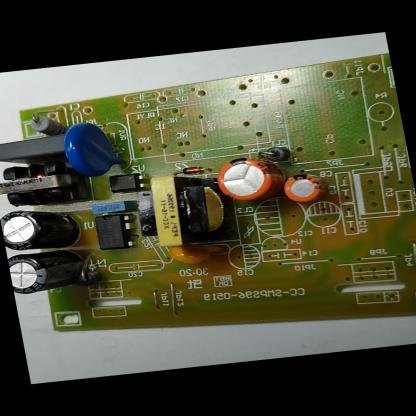Cap1: (210, 152, 290, 204)
Cap2: (282, 173, 327, 204)
Cap3: (0, 203, 85, 255)
Cap4: (7, 248, 85, 295)
MOSFET: (91, 212, 135, 250)
Mov: (61, 118, 125, 178)
Resistor: (0, 157, 87, 210), (26, 113, 66, 136)
Transformer: (129, 170, 230, 252)
